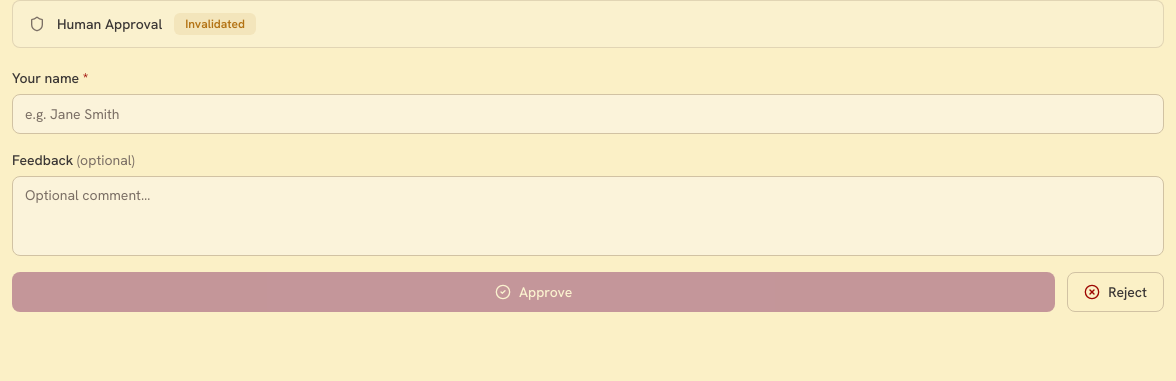
Test: <ApprovalPanel> — gates passed › shows 409 error when approve returns gates not passed
Step 1. Type "bob" into the field with test id "approver-input" → (588, 114), box [12, 94, 1164, 134]
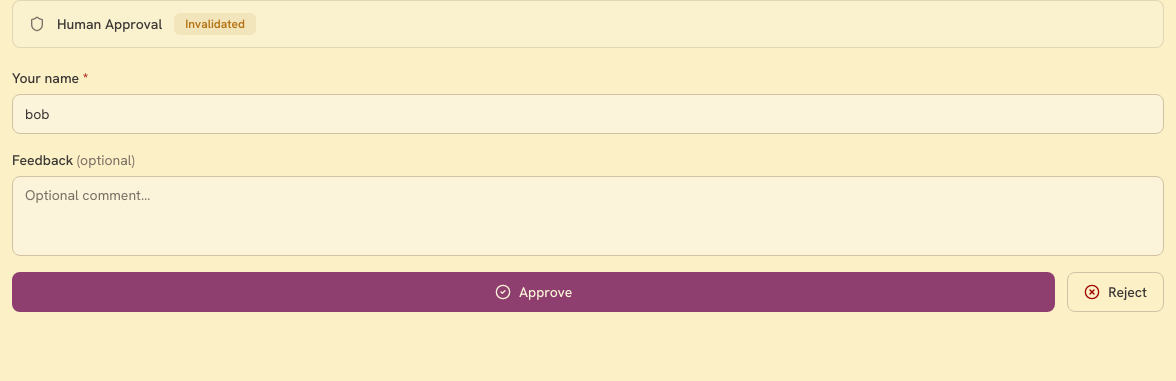
Step 2. Click the button with test id "approve-btn" → click(534, 292), box [12, 272, 1055, 312]
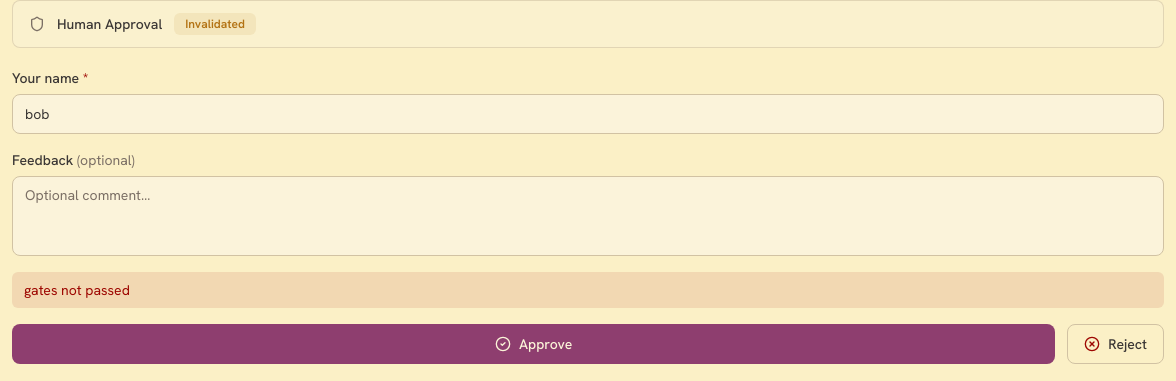
Result: the message reads "gates not passed" at [24, 281, 130, 299]
